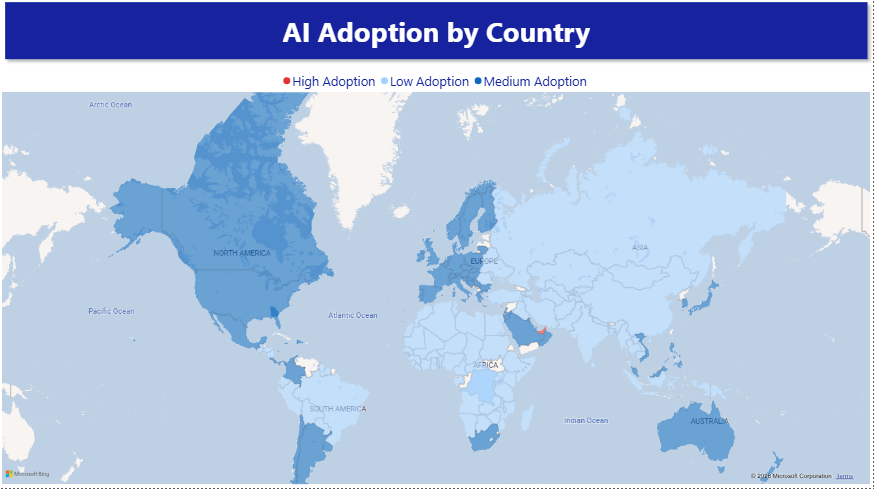

This screenshot's page, from the dashboard's own definition file:
{"tool":"powerbi","page":{"name":"Page 2","canvas":[1280,720],"ordinal":1},"visuals":[{"type":"shape","box":[0,0,1280,101.4],"z":0},{"type":"filledMap","fields":{"Series":["adoption_category.adoption_category"],"Category":["adoption_category.economy"]},"box":[0,101.7,1280,618.3],"z":1000}]}

Visuals, with their boxes in screenshot pixels (x1, y1, x2, y2), scaled from the page's 1280x720 canvas onto the 874x489 screenshot:
shape: <bbox>0, 0, 873, 69</bbox>
filledMap - adoption_category.adoption_category x adoption_category.economy: <bbox>0, 69, 873, 488</bbox>
